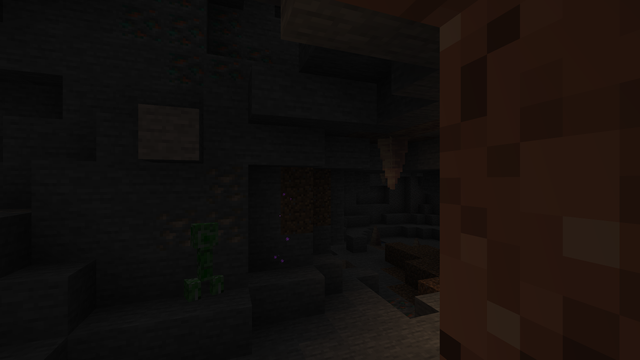creepers: (187, 217, 217, 300)
